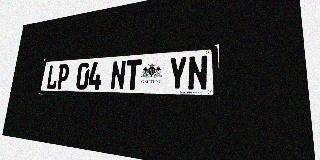0: (75, 62, 90, 90)
4: (87, 62, 103, 90)
L: (46, 64, 59, 89)
N: (187, 55, 208, 91), (110, 60, 126, 90)
P: (56, 64, 70, 89)
T: (124, 59, 142, 90)
Y: (168, 56, 187, 91)
